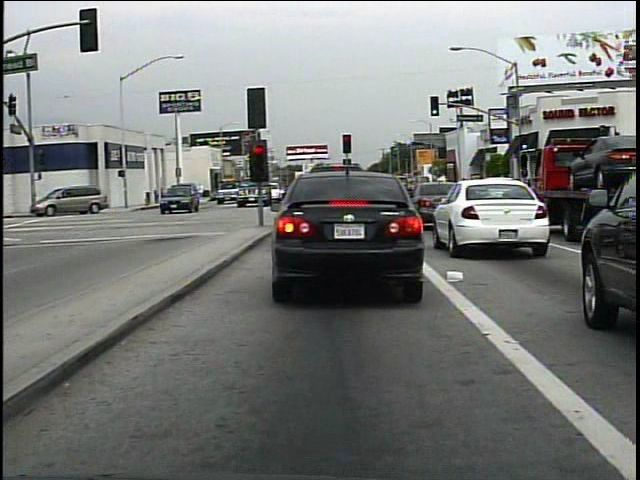person: (191, 178, 212, 203)
